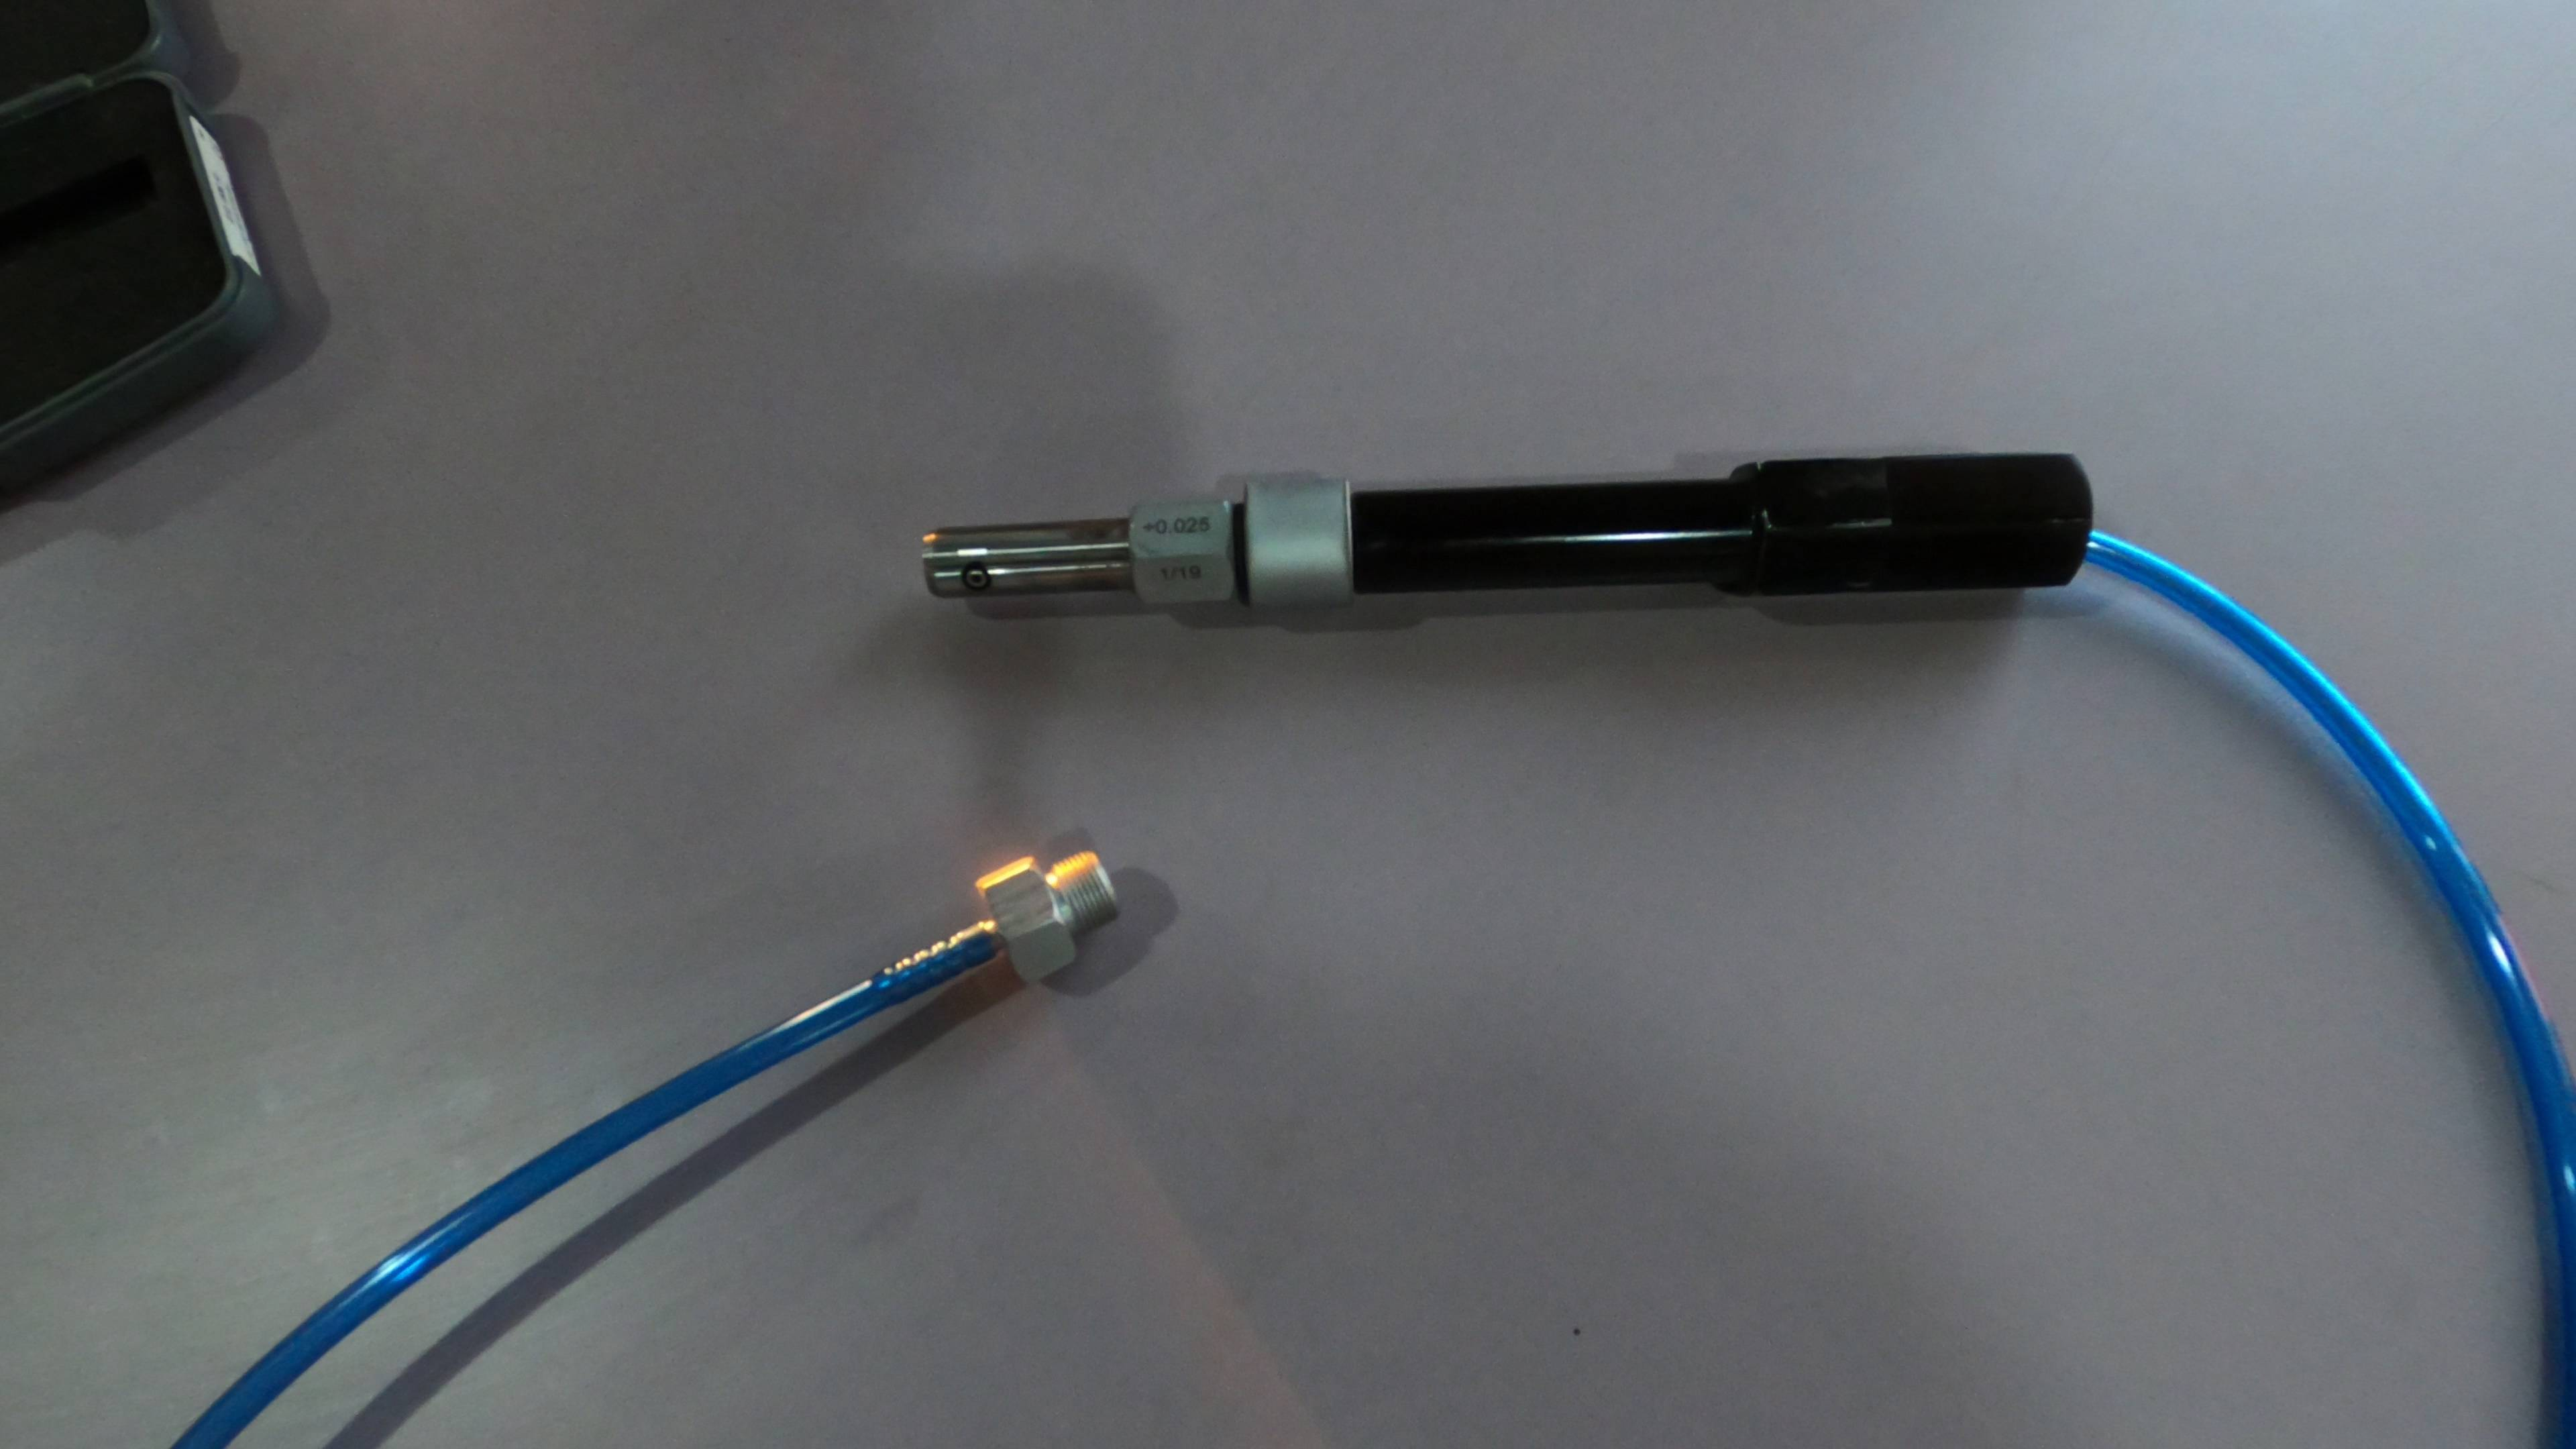air_gauge: (913, 444, 2105, 614)
